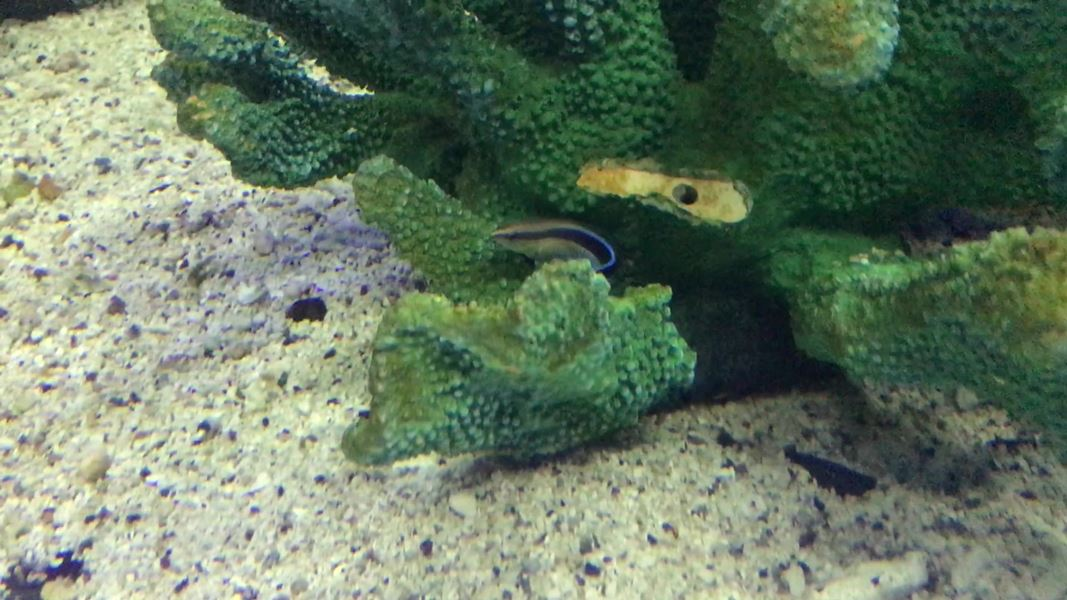Bluesteak cleaner wrasse: (476, 214, 627, 294)
